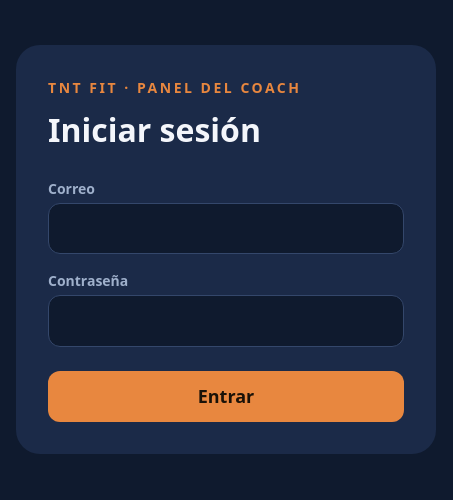
login › login incorrecto muestra el error y se queda en el login
Type "coach@tnt.demo" into the field labelled "Correo" at (226, 228), box [48, 202, 404, 254]
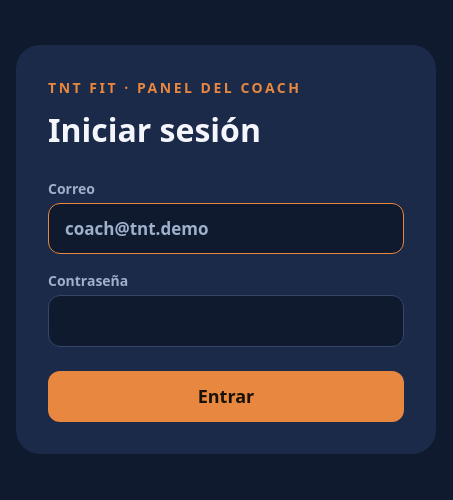
Type "mala" into the password field labelled "Contraseña" at (226, 321), box [48, 295, 404, 346]
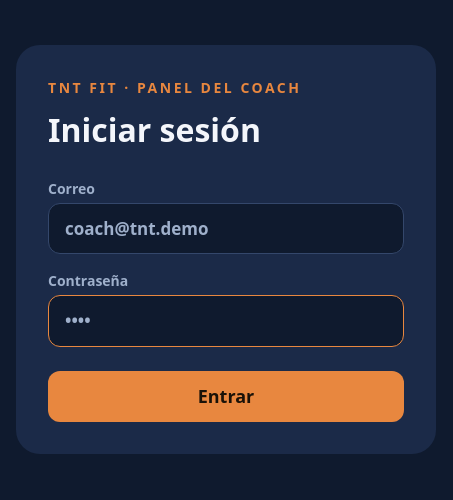
Click the button "Entrar" at (226, 396), box [48, 370, 404, 422]
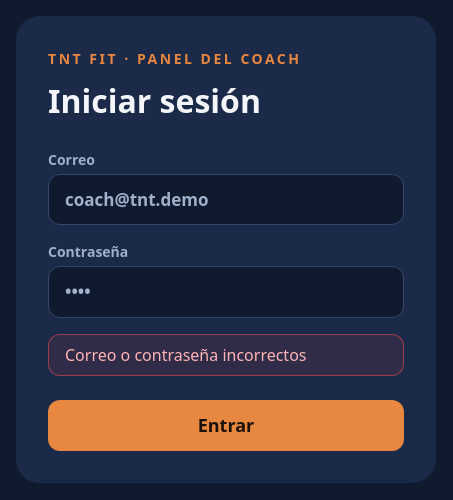
Expected: the button "Entrar" is shown, [48, 400, 404, 450]
Expected: the message reads "Correo o contraseña incorrectos", [65, 344, 306, 366]
